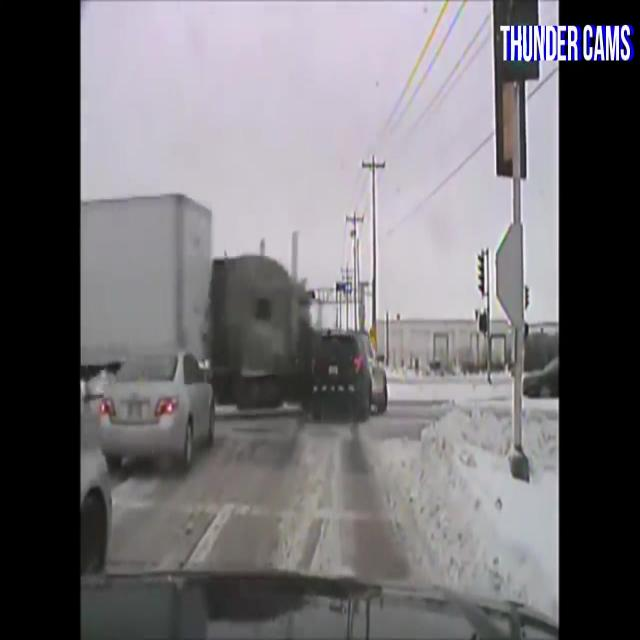accident: (274, 279, 390, 442)
